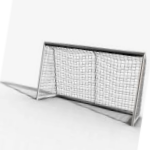goals: (34, 40, 145, 127)
